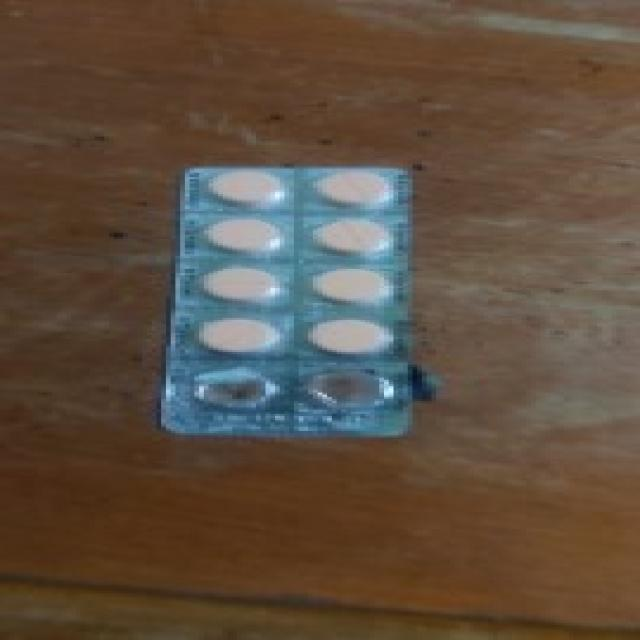Cacat: (166, 164, 408, 440)
Kemasan: (176, 361, 408, 426)
